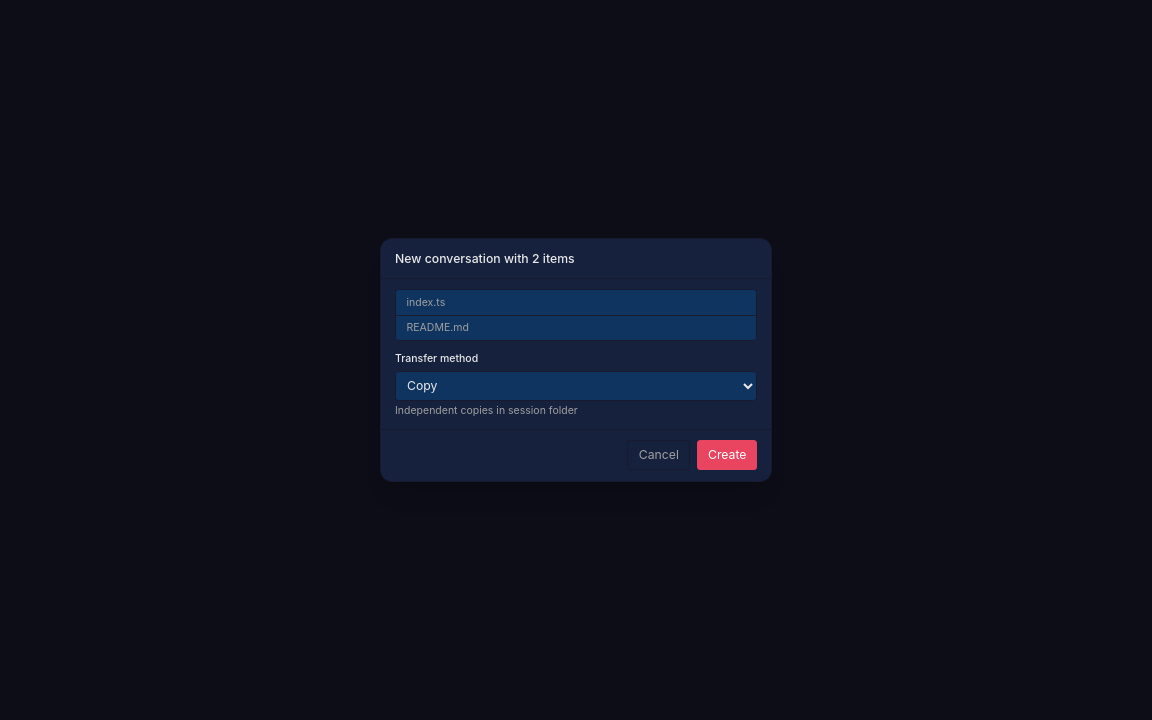
Scenario: NewConversationFromFilesModal › shows error on confirm failure
What coordinates should you click on to do the following:
click the button "Create"
I would click on:
 (727, 455)
Its box is top-left (698, 440), bottom-right (757, 470).
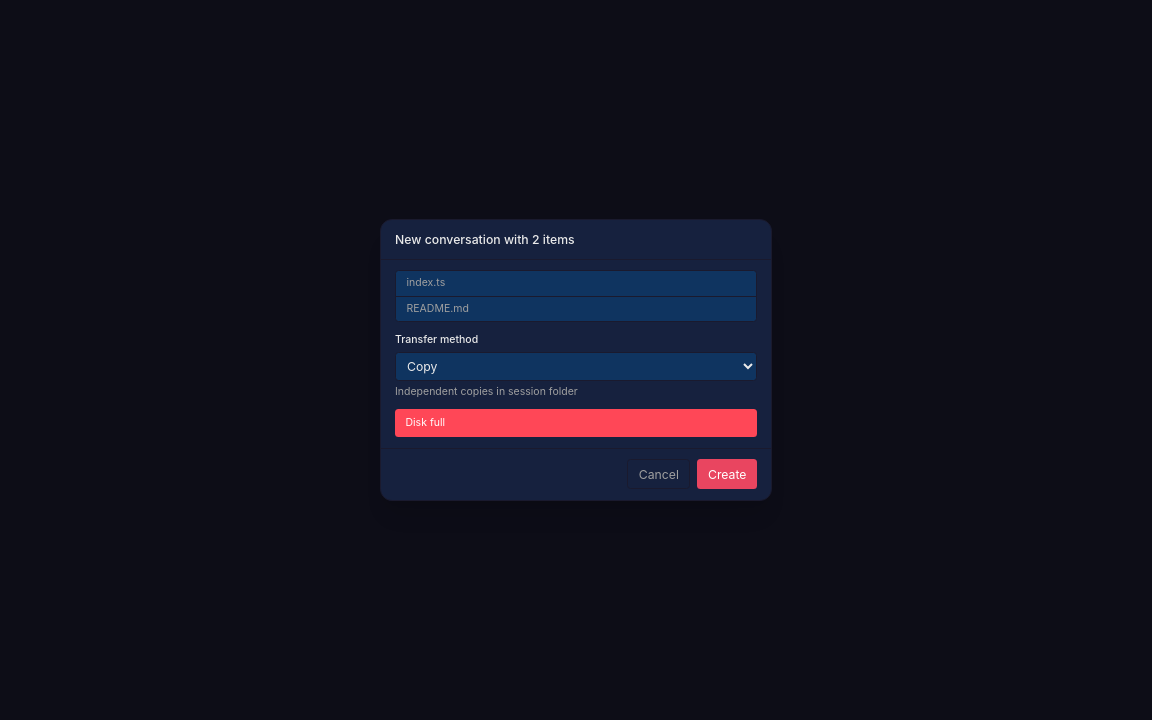
Expected: the message reads "Disk full", top-left (406, 416), bottom-right (445, 429)
